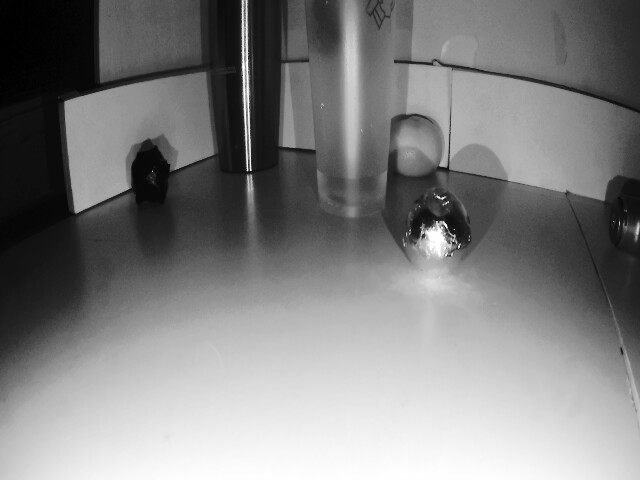black: (408, 186, 472, 278)
silver: (130, 150, 179, 210)
